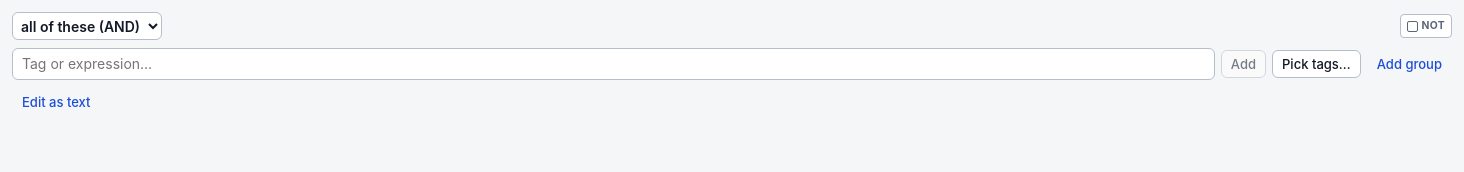
Test: the add field speaks the filter's grammar › offers a catalog tag in its list as the field reads it: quoted where the grammar needs it
Step 1. Type "\"Cart AND Checkout\"" into the field named "Add a tag or pattern" → x=613, y=64, box [12,48,1215,80]
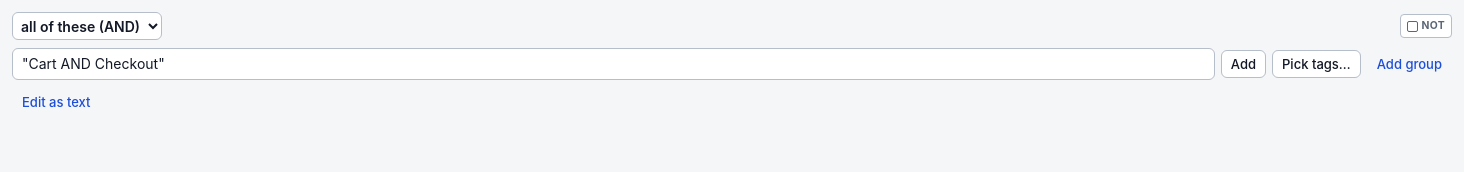
Step 2. Submit the form named "Add a tag or pattern", box [12,48,1452,80]
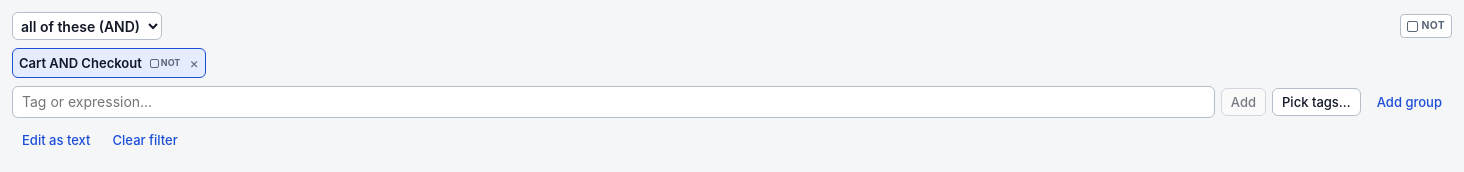
Expected: the text "Cart AND Checkout" is shown, [19,54,142,72]
